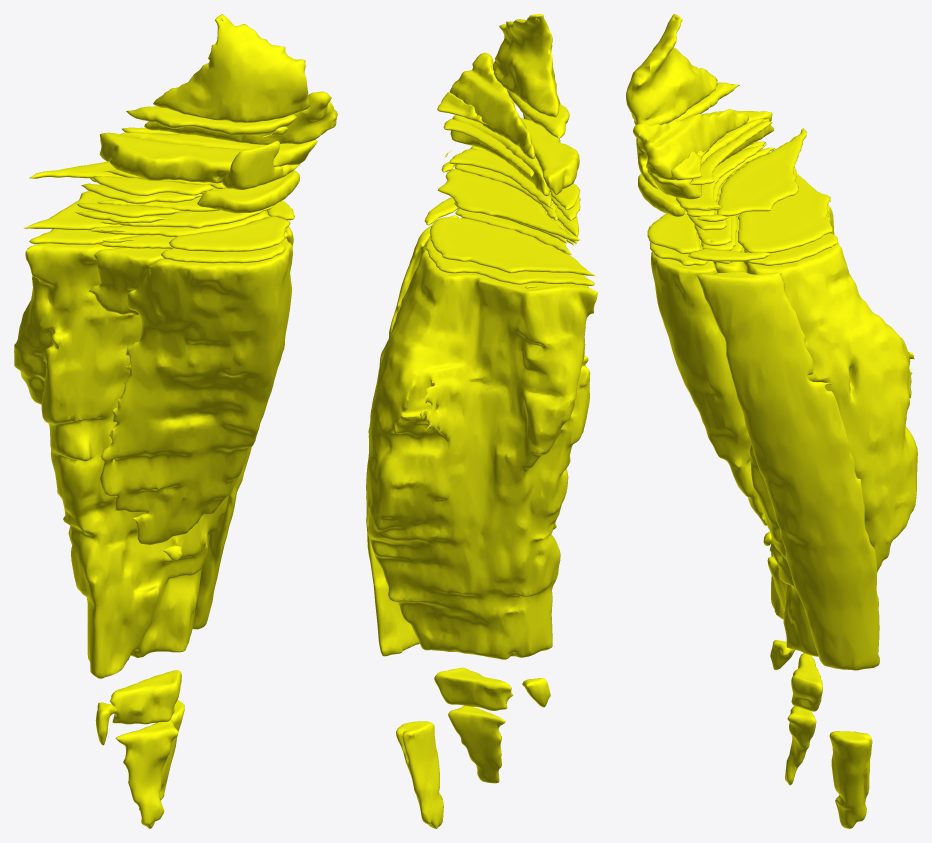
Rendered from Adductors.nii.gltf.
3 renders of one model, left to right at view 1: azimuth 30°, elevation 25°; view 2: azimuth 150°, elevation 25°; view 3: azimuth 270°, elevation 25°, orthographic. The views are drawn at different scales.
Visible parts, largest first — view 1: Adductor Magnus_R, Adductor Longus_R, Pectineus_R, Adductor Brevis_R, Gracilis_R.nii.gz; view 2: Adductor Magnus_R, Pectineus_R, Adductor Brevis_R, Gracilis_R.nii.gz; view 3: Adductor Magnus_R, Gracilis_R.nii.gz, Adductor Longus_R, Adductor Brevis_R, Pectineus_R.
Part boxes in pixels (x1,y1,x2,y2): Adductor Magnus_R: (14, 127, 235, 825); Adductor Longus_R: (100, 126, 300, 561); Pectineus_R: (74, 14, 310, 242); Adductor Brevis_R: (86, 91, 337, 314); Gracilis_R.nii.gz: (139, 170, 294, 828); Adductor Magnus_R: (366, 92, 597, 783); Pectineus_R: (493, 14, 580, 252); Adductor Brevis_R: (449, 52, 572, 255); Gracilis_R.nii.gz: (366, 150, 458, 828); Adductor Magnus_R: (671, 121, 917, 785); Gracilis_R.nii.gz: (688, 206, 879, 828); Adductor Longus_R: (636, 138, 771, 545); Adductor Brevis_R: (633, 109, 774, 272); Pectineus_R: (626, 14, 772, 177).
Bounding box in the file's own units: 0.1171 × 0.4106 × 0.1354.
